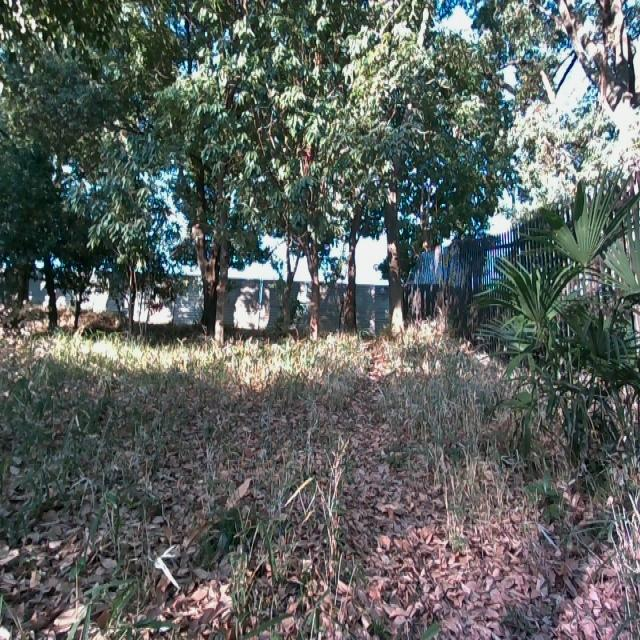artifact: (414, 187, 640, 352)
bush: (498, 183, 640, 466)
tree: (171, 92, 240, 350), (375, 116, 437, 338), (300, 159, 332, 338), (338, 166, 370, 337), (110, 218, 155, 339)
